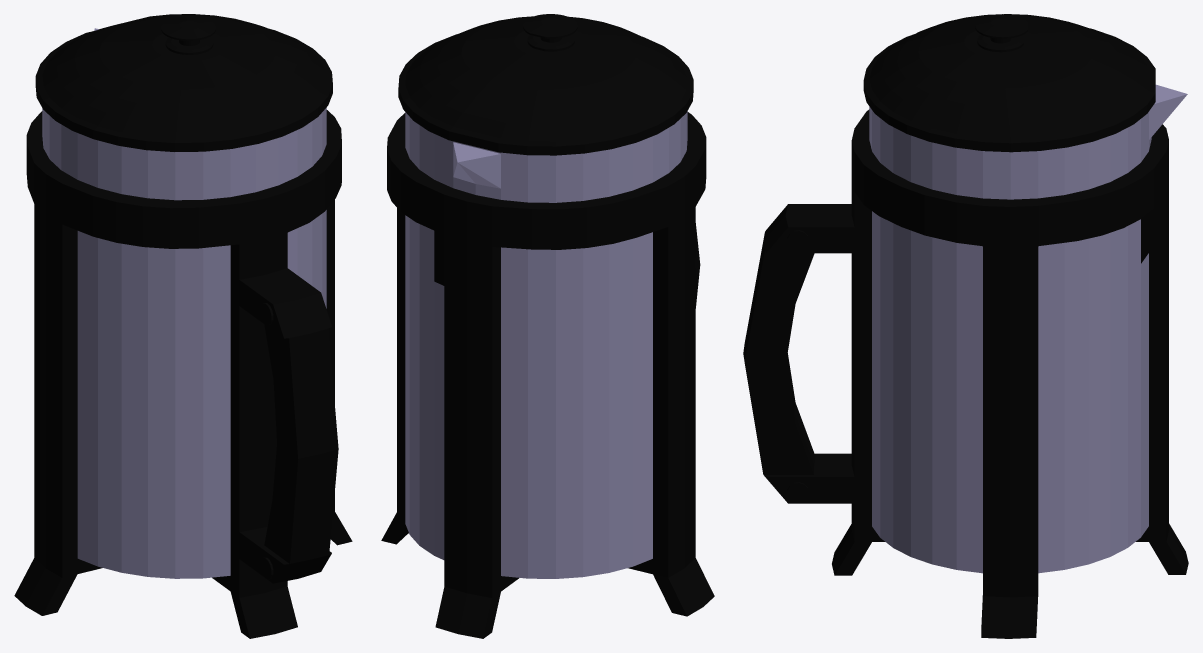
Rendered from _afetiere.fbx.
3 renders of one model, left to right at view 1: azimuth 30°, elevation 25°; view 2: azimuth 150°, elevation 25°; view 3: azimuth 270°, elevation 25°, orthographic.
Visible parts, largest first — view 1: Cylinder.039; view 2: Cylinder.039; view 3: Cylinder.039.
Boxes of the visible parts, x1,y1,x2,y2 form: Cylinder.039: [14, 14, 352, 638]; Cylinder.039: [381, 14, 714, 638]; Cylinder.039: [743, 14, 1188, 638].
Bounding box in the file's own units: 20.97 × 34.89 × 26.02.
